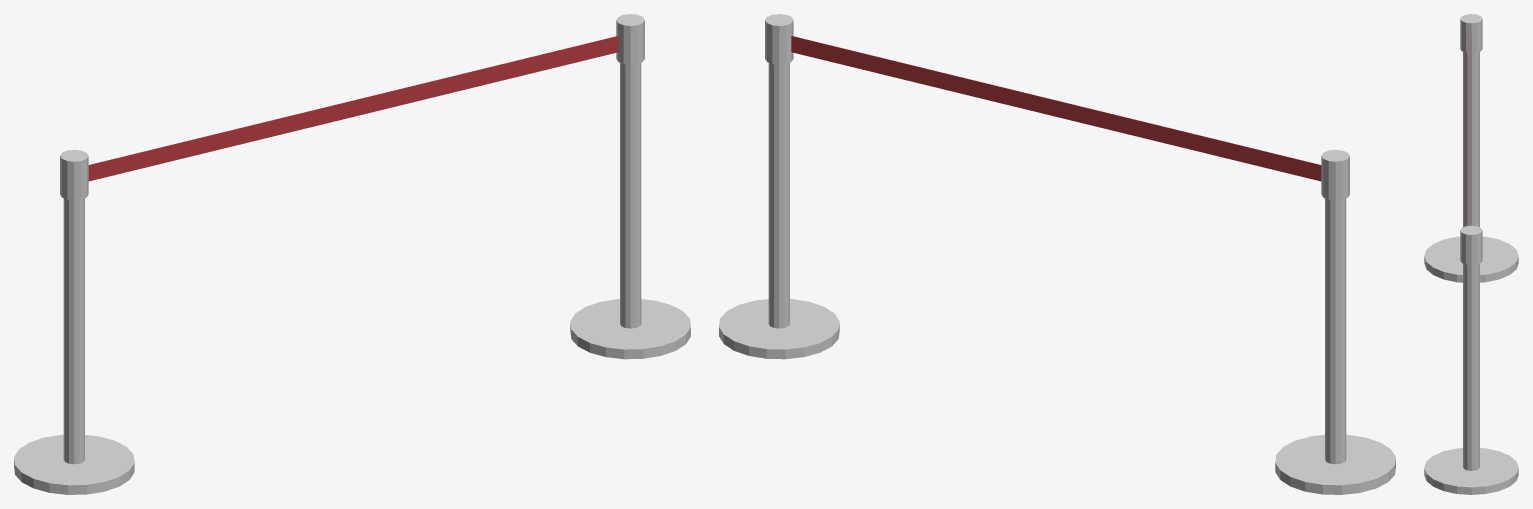
File: queue_posts_pair.glb
3 views of the same model, side by side, from view 1: azimuth 30°, elevation 25°; view 2: azimuth 150°, elevation 25°; view 3: azimuth 270°, elevation 25° (orthographic). The views are drawn at different scales.
Parts seen in each view (by area): view 1: queue_posts_pair; view 2: queue_posts_pair; view 3: queue_posts_pair.
Boxes of the visible parts, bbox=[...] form: queue_posts_pair: bbox=[14, 14, 690, 494]; queue_posts_pair: bbox=[719, 14, 1395, 494]; queue_posts_pair: bbox=[1424, 14, 1518, 494].
Bounding box in the file's own units: 2.14 × 0.97 × 0.34.
